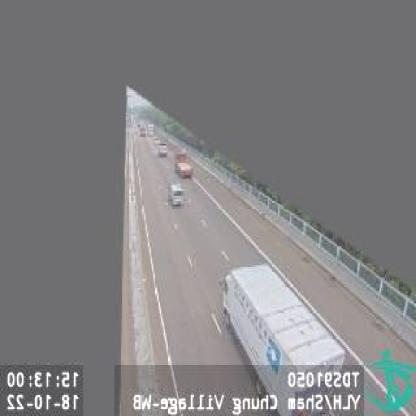Car: (168, 183, 186, 209), (157, 143, 169, 158)
Truck: (219, 263, 347, 416), (173, 150, 194, 179)
